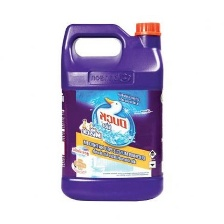cleaning_solution: (57, 17, 168, 203)
